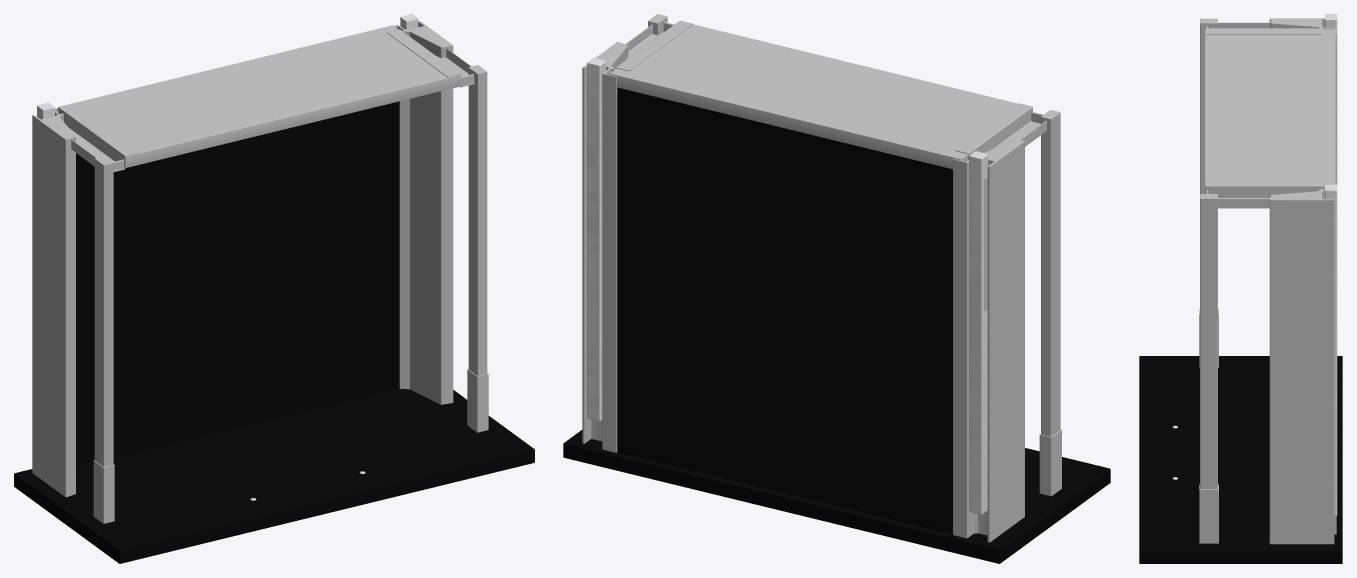
File: SM_Kitchen_09_Drawer_02.obj
3 views of the same model, side by side, from view 1: azimuth 30°, elevation 25°; view 2: azimuth 150°, elevation 25°; view 3: azimuth 270°, elevation 25° (orthographic). The views are drawn at different scales.
Visible parts, largest first — view 1: SM_Kitchen_09_Drawer_02; view 2: SM_Kitchen_09_Drawer_02; view 3: SM_Kitchen_09_Drawer_02.
Boxes of the visible parts, x1,y1,x2,y2 form: SM_Kitchen_09_Drawer_02: [14, 14, 534, 563]; SM_Kitchen_09_Drawer_02: [563, 14, 1110, 563]; SM_Kitchen_09_Drawer_02: [1139, 14, 1342, 563].
Size of the model in its own units: 0.5969 by 0.5199 by 0.263.
Materials: 4 (1 with a texture image).
